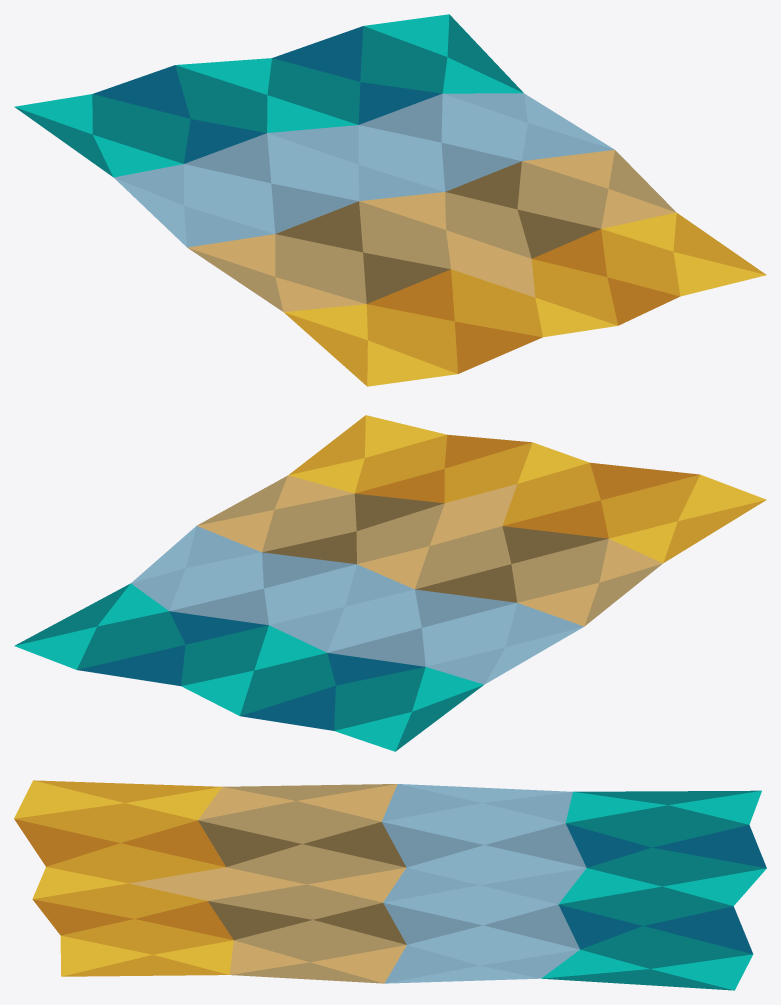
File: Puzzle05_Carpet.glb
3 renders of one model, top to bottom at view 1: azimuth 30°, elevation 25°; view 2: azimuth 150°, elevation 25°; view 3: azimuth 270°, elevation 25°, orthographic. The views are drawn at different scales.
Parts seen in each view (by area): view 1: Game5_Alfombra.001; view 2: Game5_Alfombra.001; view 3: Game5_Alfombra.001.
Part boxes in pixels (x1,y1,x2,y2): Game5_Alfombra.001: [14, 14, 766, 386]; Game5_Alfombra.001: [14, 415, 766, 751]; Game5_Alfombra.001: [14, 780, 766, 990].
Bounding box in the file's own units: 2 × 1.61e-09 × 3.04.
1 material, 1 textured.
